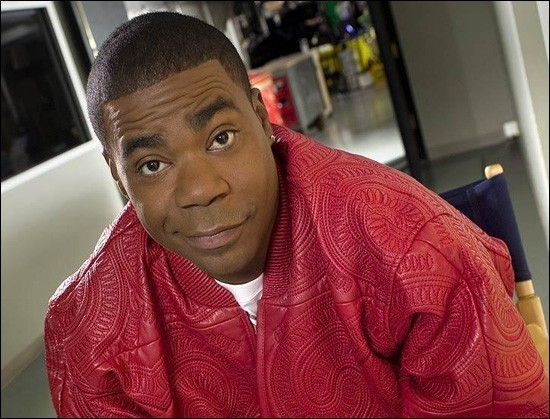face_no_mask: (85, 11, 279, 275)
